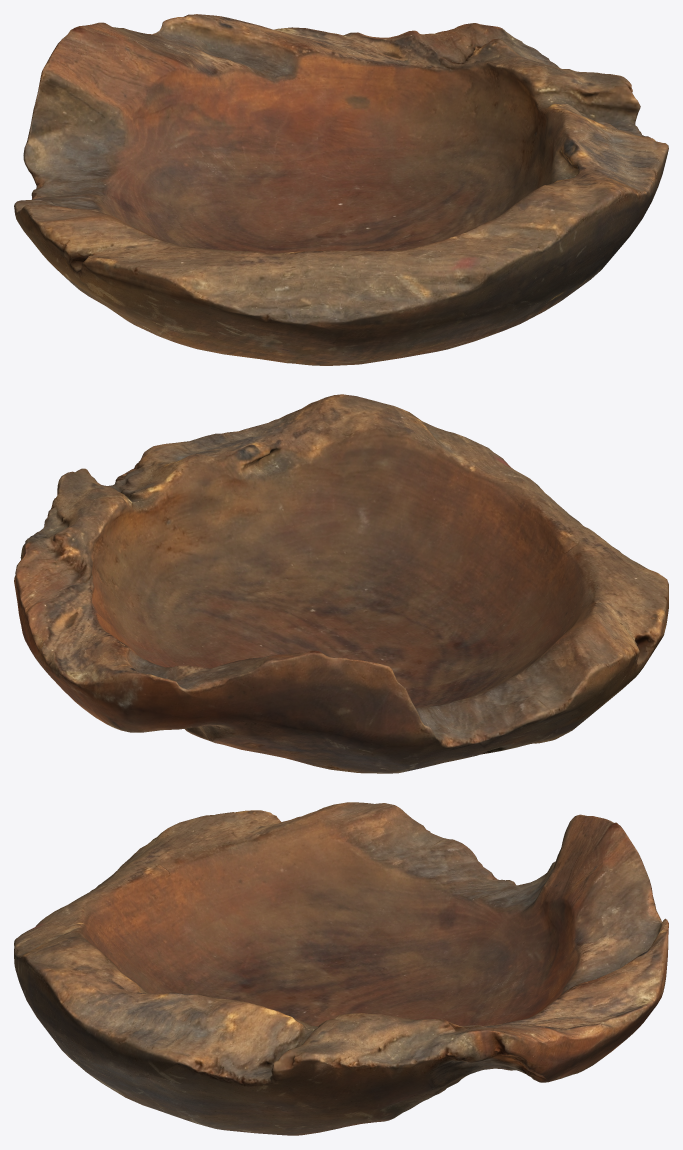
The model's file is wooden_bowl_01.glb.
3 views of the same model, one above another, from view 1: azimuth 30°, elevation 25°; view 2: azimuth 150°, elevation 25°; view 3: azimuth 270°, elevation 25° (orthographic). The views are drawn at different scales.
Visible parts, largest first — view 1: wooden_bowl_01; view 2: wooden_bowl_01; view 3: wooden_bowl_01.
Part boxes in pixels (box(x1,y1,x2,y2)): wooden_bowl_01: box(14, 14, 668, 365); wooden_bowl_01: box(14, 394, 668, 773); wooden_bowl_01: box(14, 802, 668, 1135).
Bounding box in the file's own units: 0.3131 × 0.0937 × 0.3091.
1 material, 1 textured.
